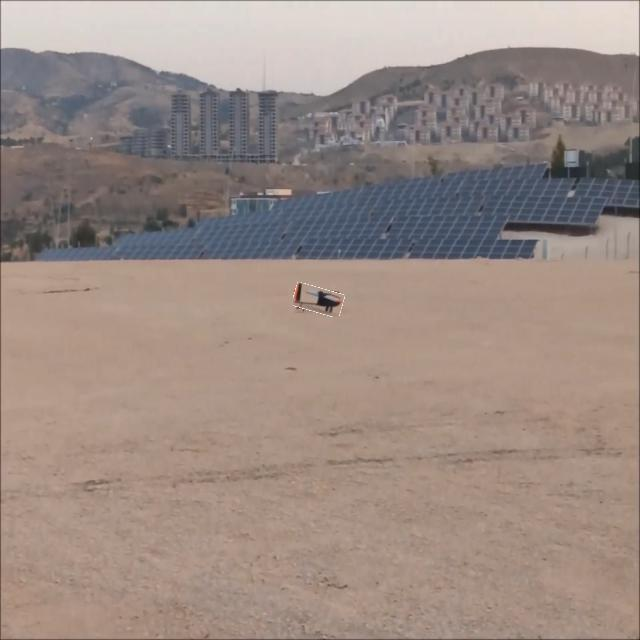UAV: (256, 274, 360, 348)
